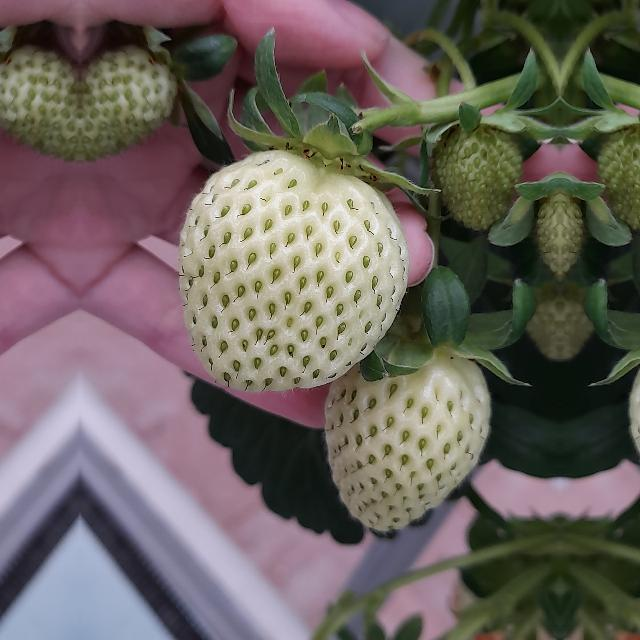Health_25: (178, 150, 410, 392), (320, 339, 492, 533), (80, 38, 178, 162), (434, 114, 526, 233), (0, 38, 80, 162), (594, 114, 640, 233)
